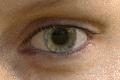eye: (45, 26, 76, 52)
